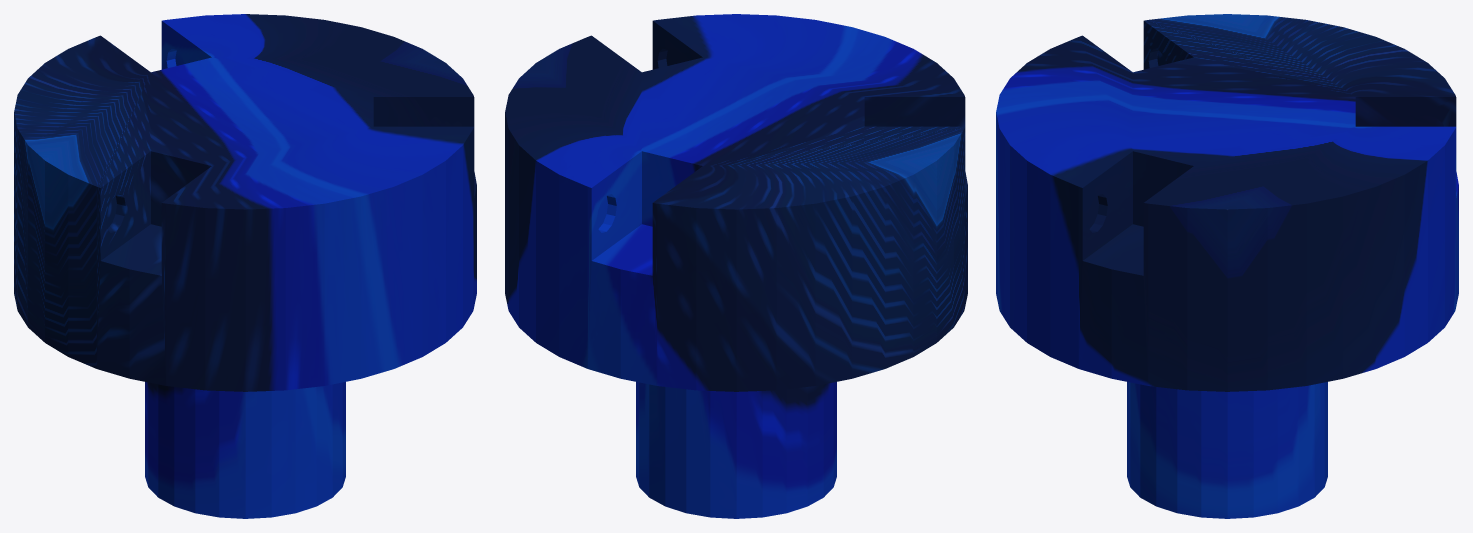
Rendered from gripper.dae.
The picture shows the model from 3 angles, left to right: view 1: azimuth 30°, elevation 25°; view 2: azimuth 150°, elevation 25°; view 3: azimuth 270°, elevation 25°; orthographic projection.
Visible parts, largest first — view 1: gripper; view 2: gripper; view 3: gripper.
Part boxes in pixels (x1,y1,x2,y2): gripper: (14,14,476,518); gripper: (505,14,967,518); gripper: (996,14,1458,518).
Bounding box in the file's own units: 0.23 × 0.23 × 0.2.
1 material, 1 textured.
